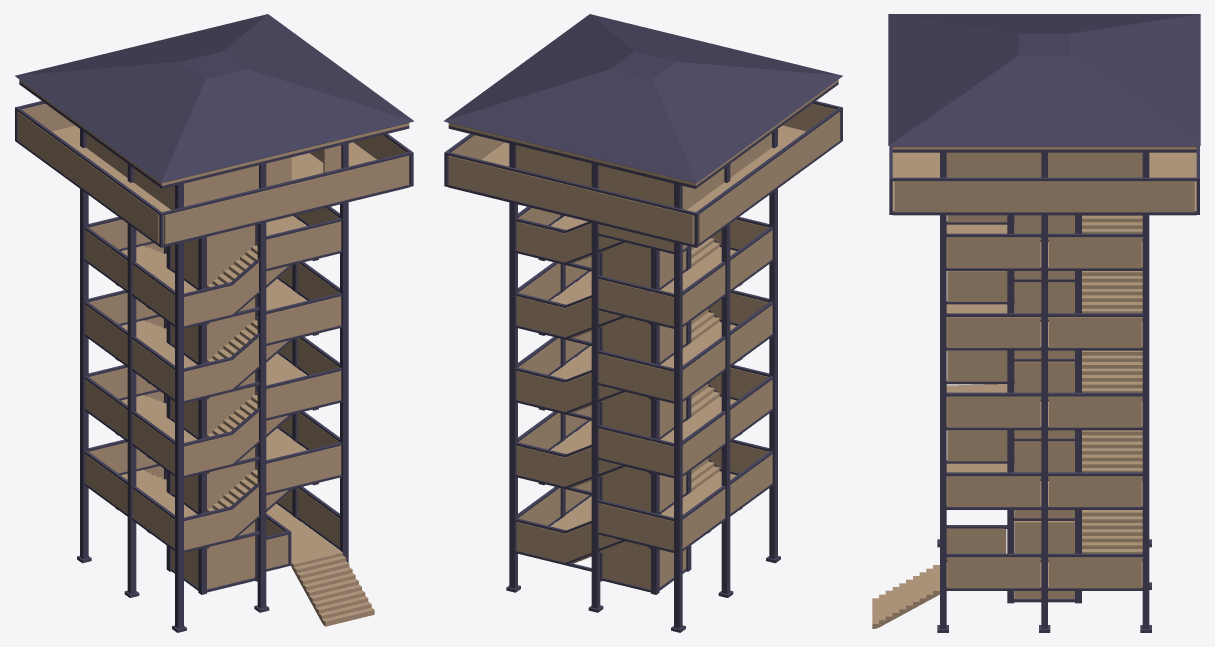
The model's file is Puisto_Lintutorni_LOD1.fbx.
3 renders of one model, left to right at view 1: azimuth 30°, elevation 25°; view 2: azimuth 150°, elevation 25°; view 3: azimuth 270°, elevation 25°, orthographic. The views are drawn at different scales.
Parts seen in each view (by area): view 1: LintuTorni_LOD1; view 2: LintuTorni_LOD1; view 3: LintuTorni_LOD1.
Boxes of the visible parts, left/top/right/bottom form: LintuTorni_LOD1: left=15, top=14, right=414, bottom=632; LintuTorni_LOD1: left=443, top=14, right=842, bottom=632; LintuTorni_LOD1: left=872, top=14, right=1200, bottom=632.
Bounding box in the file's own units: 924 × 1773 × 972.
